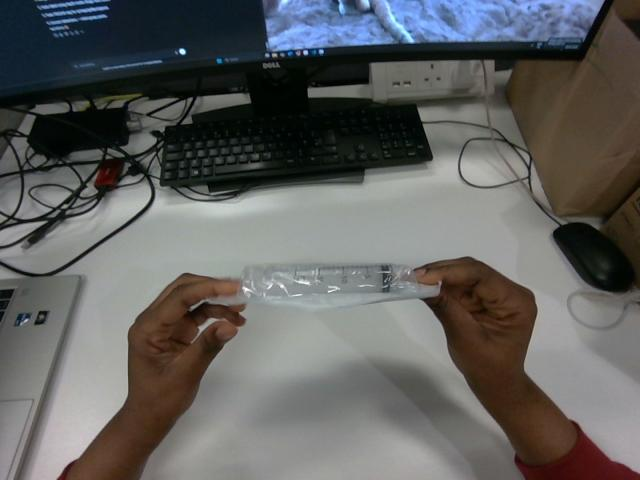syringe: (237, 264, 439, 309)
